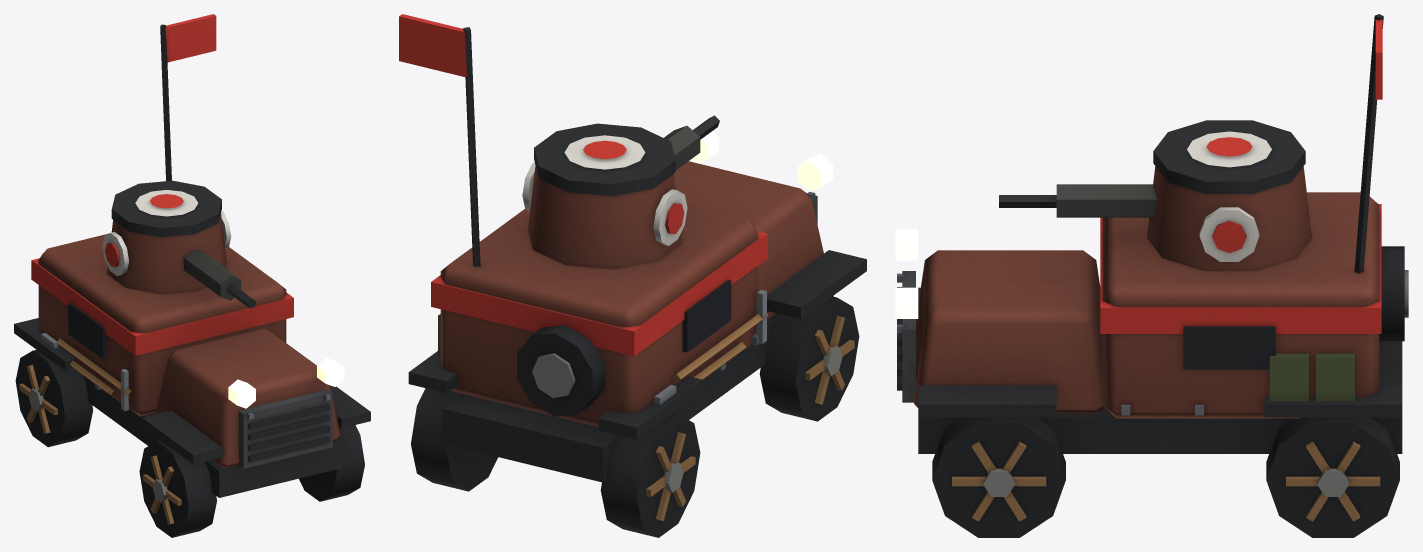
File: assault_dl5_red.glb
The picture shows the model from 3 angles, left to right: view 1: azimuth 30°, elevation 25°; view 2: azimuth 150°, elevation 25°; view 3: azimuth 270°, elevation 25°; orthographic projection. The views are drawn at different scales.
Parts seen in each view (by area): view 1: assault_dl5_red; view 2: assault_dl5_red; view 3: assault_dl5_red.
Boxes of the visible parts, x1,y1,x2,y2 form: assault_dl5_red: [14, 14, 370, 537]; assault_dl5_red: [399, 14, 866, 537]; assault_dl5_red: [895, 14, 1408, 537].
Bounding box in the file's own units: 0.267 × 0.4774 × 0.4455.
2 materials, 1 textured.
